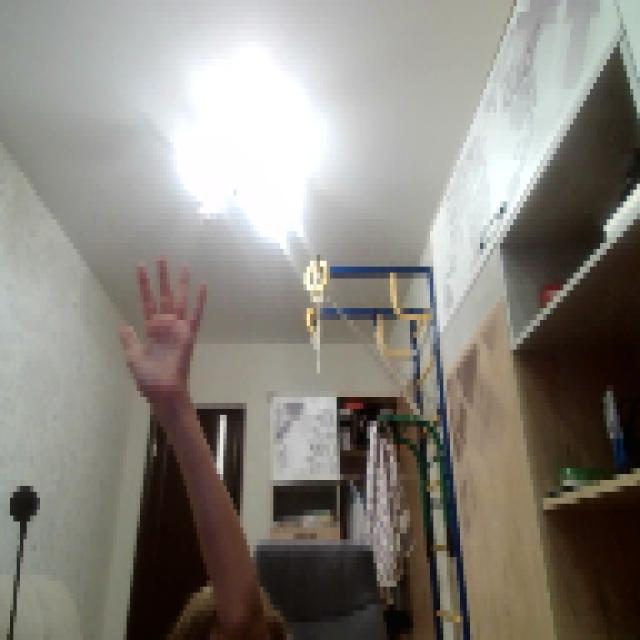hand: (114, 243, 204, 397)
